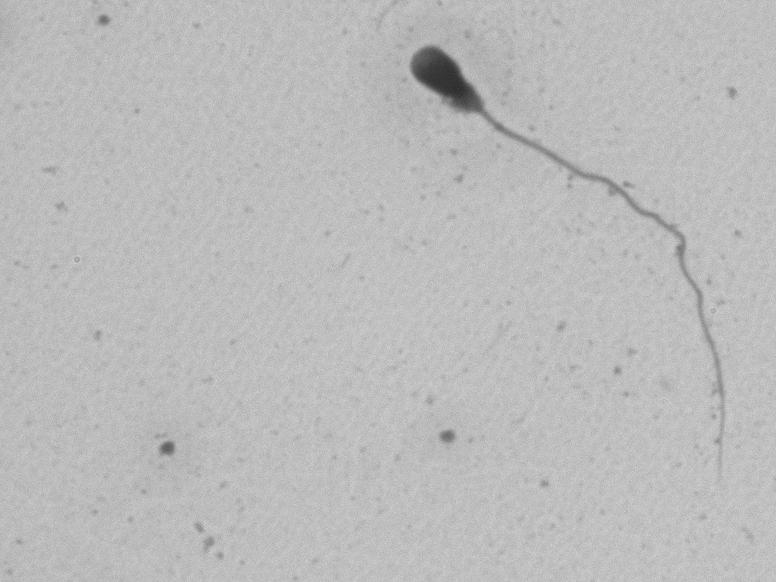Abnormal: (368, 18, 752, 477)
